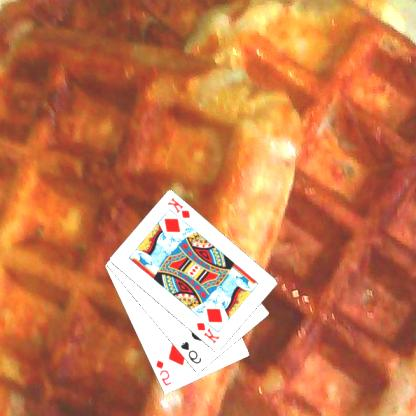5D: (154, 358, 175, 388)
6S: (179, 339, 205, 366)
KD: (196, 320, 224, 345), (166, 195, 193, 220)
